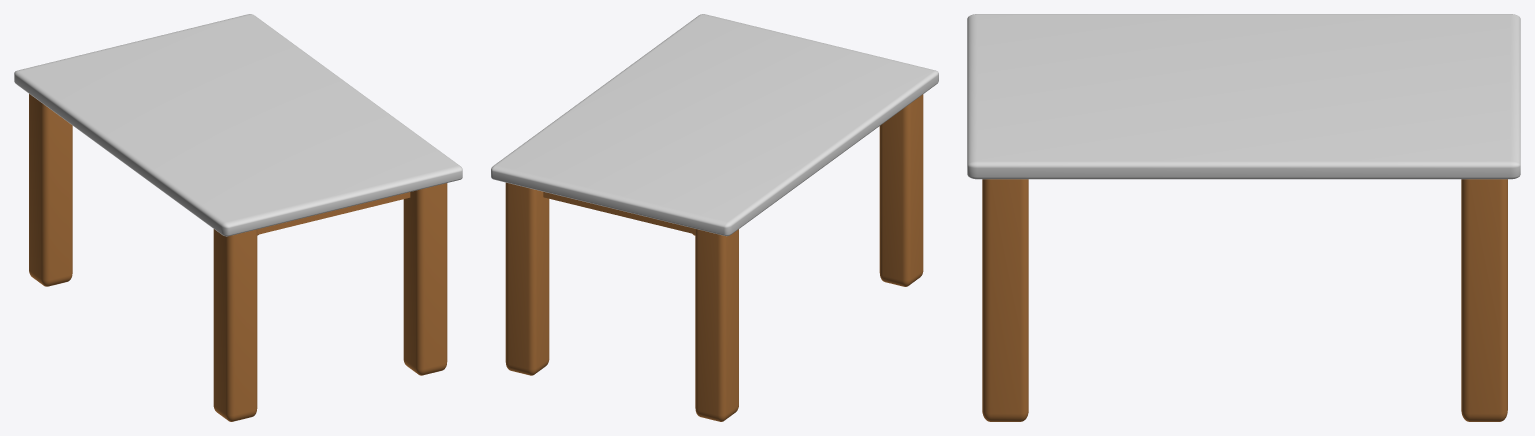
File: simple_rect_table_B.obj
3 renders of one model, left to right at view 1: azimuth 30°, elevation 25°; view 2: azimuth 150°, elevation 25°; view 3: azimuth 270°, elevation 25°, orthographic. The views are drawn at different scales.
Parts seen in each view (by area): view 1: simple_rect_table_B; view 2: simple_rect_table_B; view 3: simple_rect_table_B.
Part boxes in pixels (<box>): simple_rect_table_B: <box>14,14,462,421</box>; simple_rect_table_B: <box>491,14,938,421</box>; simple_rect_table_B: <box>967,14,1520,421</box>.
Size of the model in its own units: 1.14 by 0.934 by 1.75.
